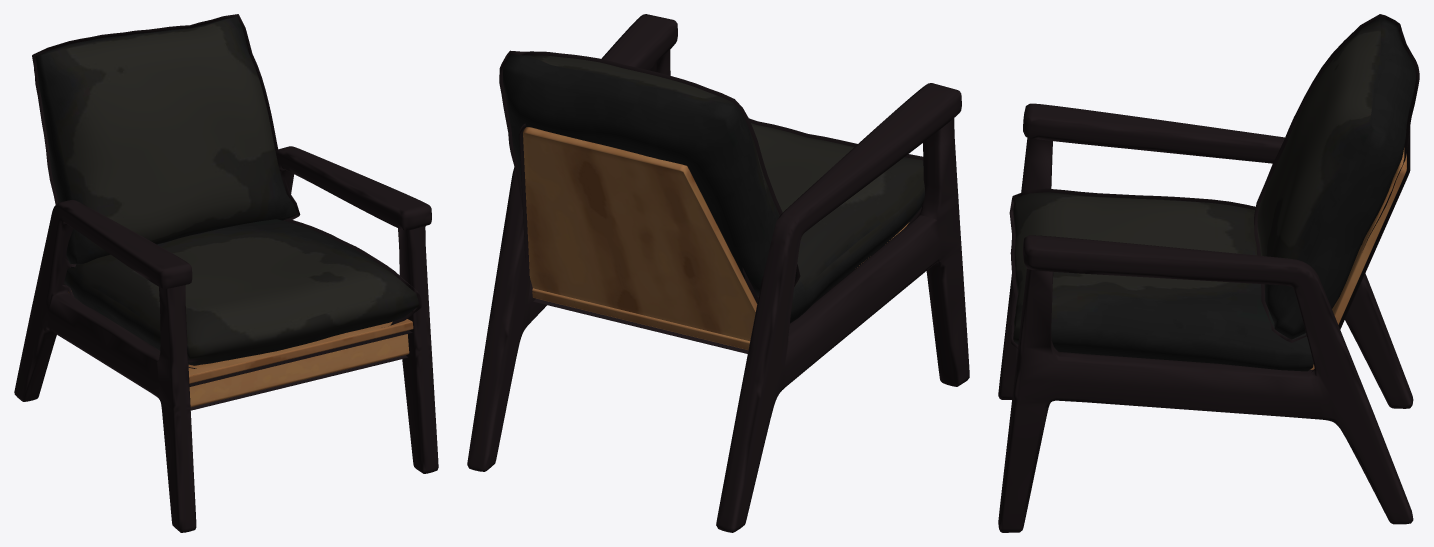
File: SM_Int_OfficeChair.fbx
The picture shows the model from 3 angles, left to right: view 1: azimuth 30°, elevation 25°; view 2: azimuth 150°, elevation 25°; view 3: azimuth 270°, elevation 25°; orthographic projection. The views are drawn at different scales.
Parts seen in each view (by area): view 1: SM_Int_OfficeChair; view 2: SM_Int_OfficeChair; view 3: SM_Int_OfficeChair.
Boxes of the visible parts, box(x1,y1,x2,y2) form: SM_Int_OfficeChair: box(14, 14, 438, 532); SM_Int_OfficeChair: box(467, 14, 969, 532); SM_Int_OfficeChair: box(998, 14, 1419, 532).
Size of what is drawn, in the model's own units: 0.7779 by 0.9659 by 0.9319.
